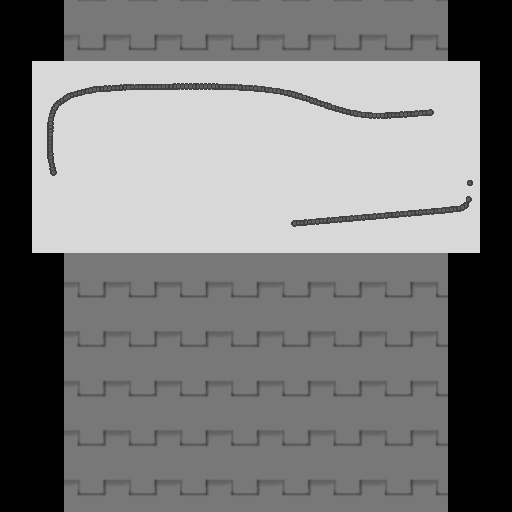Defect: (43, 174, 290, 233)
